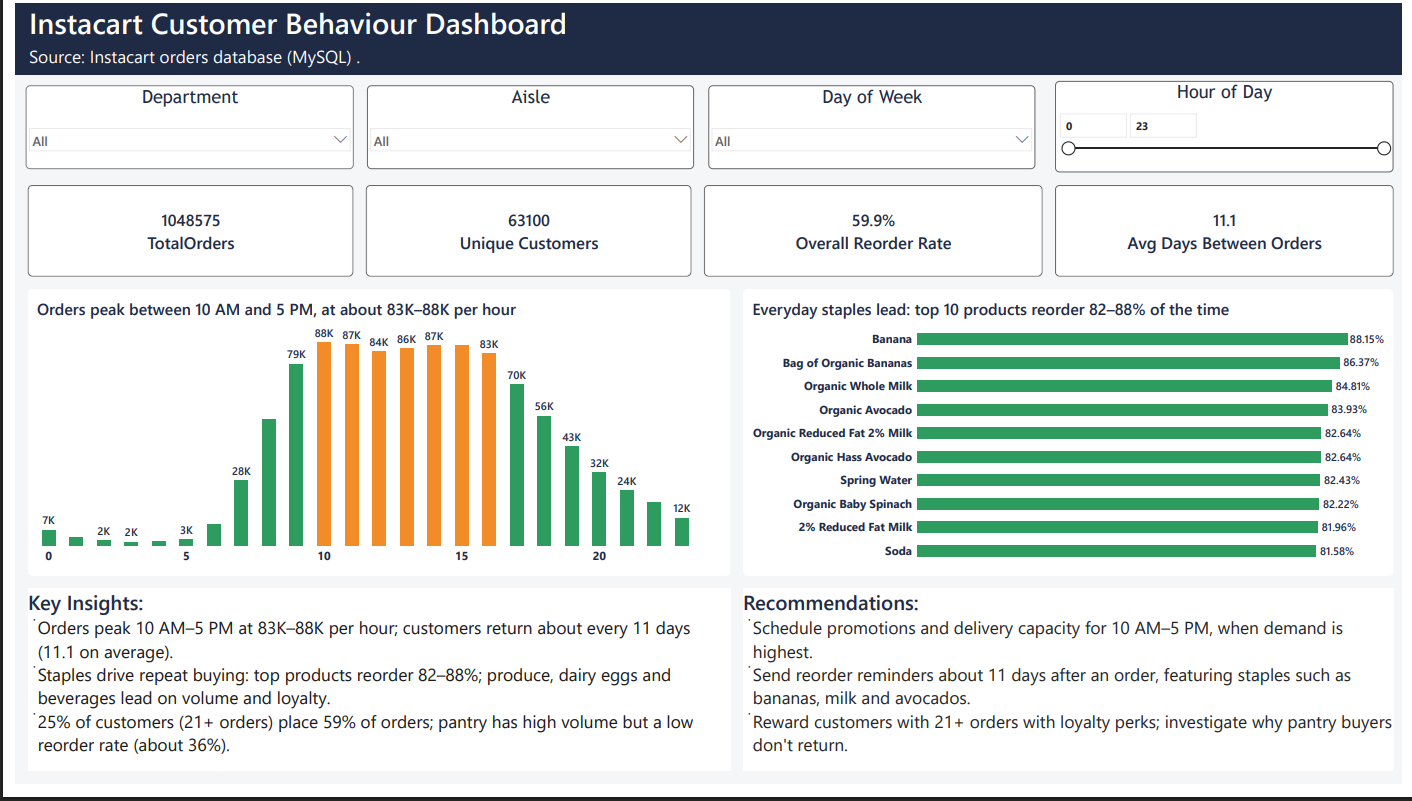

The dashboard page shown, as its layout file describes it:
{"tool":"powerbi","page":{"name":"Summary","canvas":[2560,1440],"ordinal":0},"visuals":[{"type":"clusteredBarChart","title":"Everyday staples lead: top 10 products reorder 82–88% of the time","fields":{"Category":["Products.product_name"],"Y":["Order_Products.Reorder Rate Ranked"]},"box":[1344,528,1200,528],"z":0},{"type":"cardVisual","fields":{"Data":["Avg(Orders.days_since_prior_order)"]},"box":[1920,336,624,168],"z":1000},{"type":"cardVisual","fields":{"Data":["Orders.Overall Reorder Rate"]},"box":[1272,336,624,168],"z":2000},{"type":"clusteredColumnChart","title":"Orders peak between 10 AM and 5 PM, at about 83K–88K per hour","fields":{"Category":["Orders.order_hour_of_day"],"Y":["CountNonNull(Orders.order_id)"]},"box":[24,528,1296,528],"z":3000},{"type":"cardVisual","fields":{"Data":["Orders.TotalOrders"]},"box":[24,336,600,168],"z":4000},{"type":"cardVisual","fields":{"Data":["Orders.Unique Customers"]},"box":[648,336,600,168],"z":5000},{"type":"slicer","title":"Department","fields":{"Values":["Departments.department"]},"box":[20.1,151.9,605.2,154.1],"z":6000},{"type":"slicer","title":"Aisle","fields":{"Values":["Aisles.aisle"]},"box":[649.9,151.9,603,154.1],"z":7000},{"type":"slicer","title":"Day of Week","fields":{"Values":["Orders.order_dow"]},"box":[1279.7,151.9,603,154.1],"z":8000},{"type":"slicer","title":"Hour of Day","fields":{"Values":["Orders.order_hour_of_day"]},"box":[1920,144,624,168],"z":9000},{"type":"shape","box":[0,0,2561.6,131.8],"z":10000},{"type":"textbox","box":[25.6,0,1116,74.6],"z":11000},{"type":"textbox","box":[25.6,74.6,2500,75],"z":12000},{"type":"textbox","box":[24,1080,1296,336],"z":13000},{"type":"textbox","box":[1344,1080,1200,336],"z":14000}]}

Visuals, with their boxes in screenshot pixels (x1, y1, x2, y2), scaled from the page's 2560x1440 canvas onto the 1412x801 screenshot:
"Everyday staples lead: top 10 products reorder 82–88% of the time" clusteredBarChart: 741 294 1403 587
cardVisual - Avg(Orders.days_since_prior_order): 1059 187 1403 280
cardVisual - Orders.Overall Reorder Rate: 702 187 1046 280
"Orders peak between 10 AM and 5 PM, at about 83K–88K per hour" clusteredColumnChart: 13 294 728 587
cardVisual - Orders.TotalOrders: 13 187 344 280
cardVisual - Orders.Unique Customers: 357 187 688 280
"Department" slicer: 11 84 345 170
"Aisle" slicer: 358 84 691 170
"Day of Week" slicer: 706 84 1038 170
"Hour of Day" slicer: 1059 80 1403 174
shape: 0 0 1411 73
textbox: 14 0 630 41
textbox: 14 41 1393 83
textbox: 13 601 728 788
textbox: 741 601 1403 788
